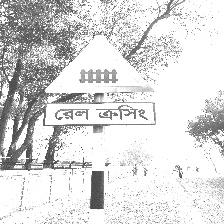Rail-crossing: (50, 35, 161, 130)
